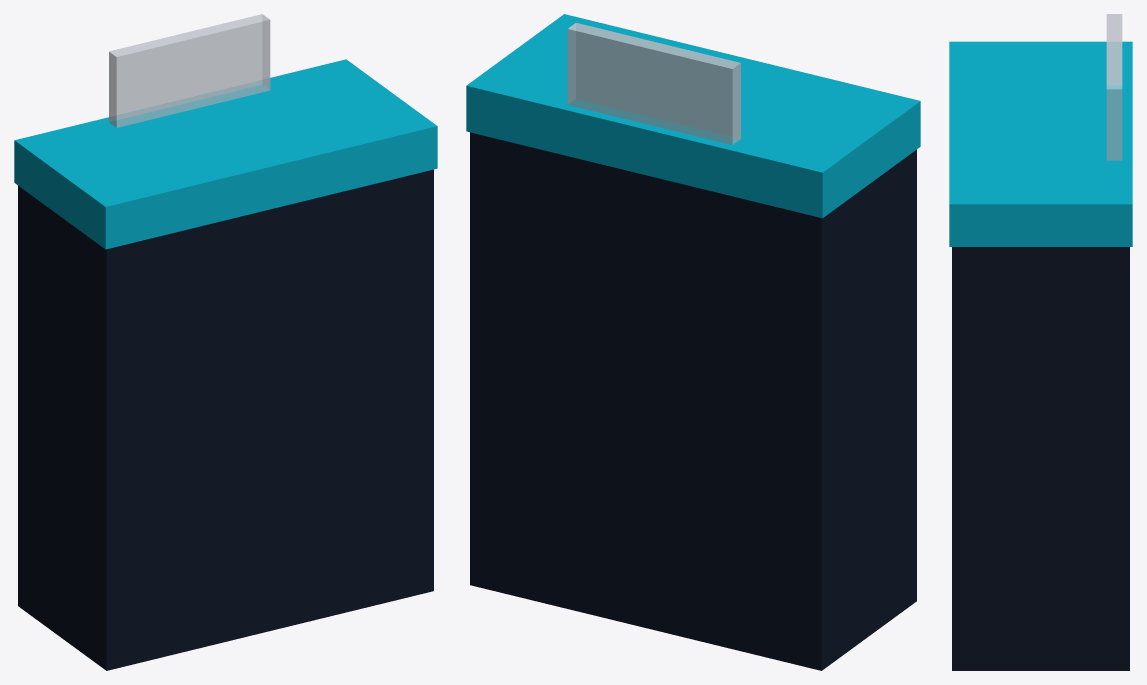
Rendered from electronics-box.glb.
3 renders of one model, left to right at view 1: azimuth 30°, elevation 25°; view 2: azimuth 150°, elevation 25°; view 3: azimuth 270°, elevation 25°, orthographic. The views are drawn at different scales.
Visible parts, largest first — view 1: Tech_Carton, Accent_Band, Hang_Tab; view 2: Tech_Carton, Accent_Band, Hang_Tab; view 3: Tech_Carton, Accent_Band, Hang_Tab.
Boxes of the visible parts, x1=… form: Tech_Carton: x1=18, y1=169, x2=433, y2=670; Accent_Band: x1=14, y1=59, x2=437, y2=249; Hang_Tab: x1=109, y1=14, x2=270, y2=127; Tech_Carton: x1=470, y1=132, x2=916, y2=670; Accent_Band: x1=466, y1=14, x2=920, y2=218; Hang_Tab: x1=567, y1=23, x2=740, y2=144; Tech_Carton: x1=952, y1=247, x2=1129, y2=670; Accent_Band: x1=949, y1=41, x2=1132, y2=246; Hang_Tab: x1=1106, y1=14, x2=1122, y2=160.
Bounding box in the file's own units: 0.147 × 0.227 × 0.07.
